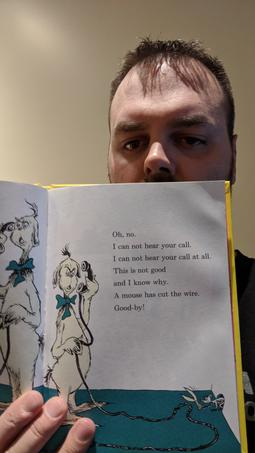text block: (105, 226, 218, 320)
